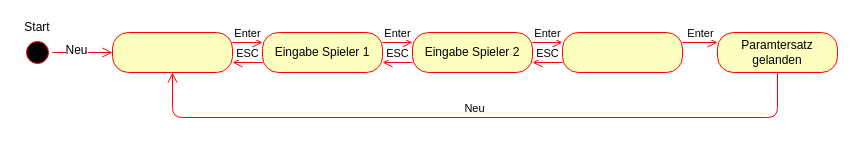
The diagram is 855 pixels wide and 145 high, and some of its shapes have lost their labels. Each missing label, with the box of its shape:
Parametersatz neu Erstellen: (112, 32, 232, 72)
Spielmodus wählen: (562, 32, 682, 72)
